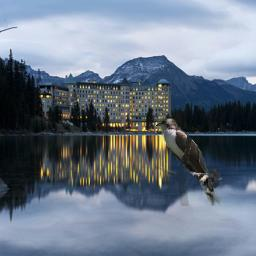Cuckoo: (155, 118, 221, 206)
